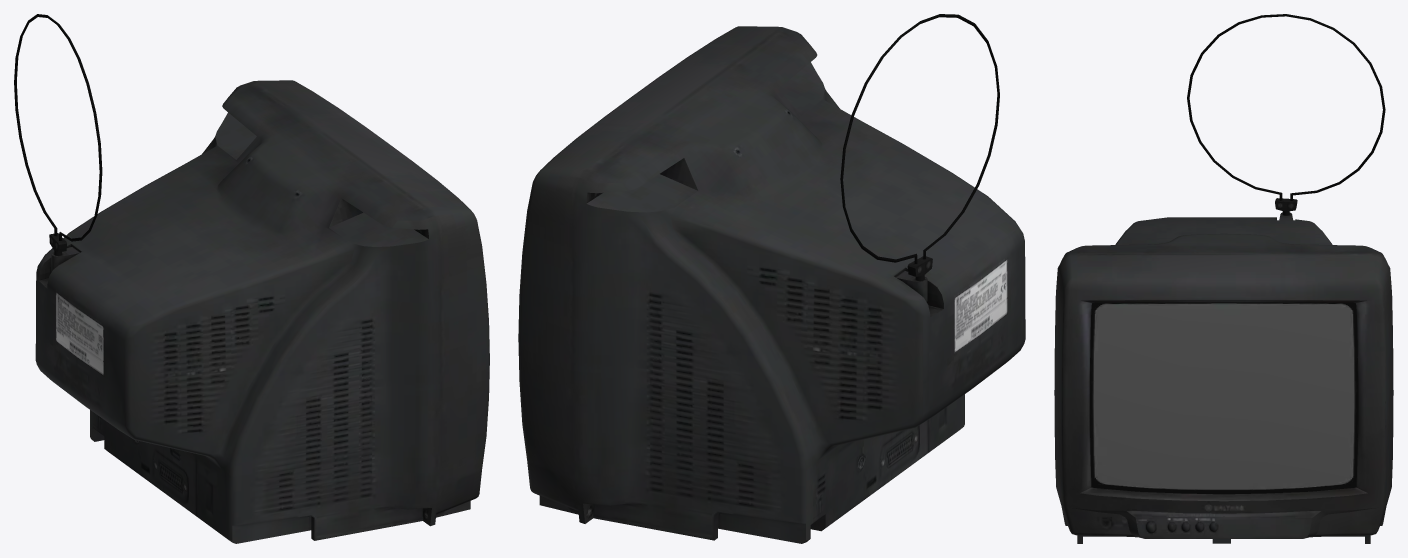
The model's file is tv_small.glb.
3 views of the same model, side by side, from view 1: azimuth 30°, elevation 25°; view 2: azimuth 150°, elevation 25°; view 3: azimuth 270°, elevation 25° (orthographic). The views are drawn at different scales.
Parts seen in each view (by area): view 1: tv_small_reference.smd; view 2: tv_small_reference.smd; view 3: tv_small_reference.smd.
Part boxes in pixels (box(x1,y1,x2,y2)): tv_small_reference.smd: box(14, 14, 489, 543); tv_small_reference.smd: box(518, 14, 1025, 543); tv_small_reference.smd: box(1054, 14, 1393, 543).
Bounding box in the file's own units: 0.3756 × 0.5132 × 0.3879.
Materials: 2 (2 with a texture image).
